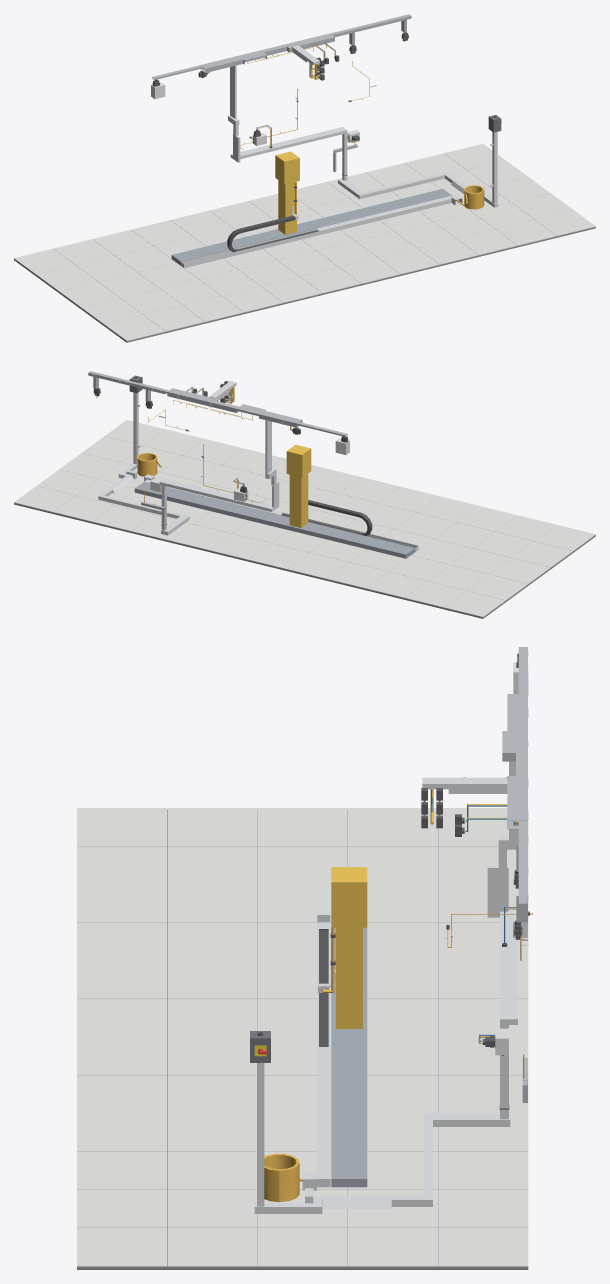
File: modul_R.glb
The picture shows the model from 3 angles, top to bottom: view 1: azimuth 30°, elevation 25°; view 2: azimuth 150°, elevation 25°; view 3: azimuth 270°, elevation 25°; orthographic projection. The views are drawn at different scales.
Visible parts, largest first — view 1: ZEMIN_DOSEME__zemin_karo, ROBOT_RAY, ELK_ANA_HAT__paslanmaz, ELK_ANA_HAT__kanal, ROBOT_ZINCIR_OLUGU__paslanmaz, ZEMIN_DOSEME__zemin_sap, ELK_ZEMIN_KANALI__paslanmaz, ROBOT_1, ROBOT_1_KOL, ROBOT_ENERJI_ZINCIRI__zincir, ROBOT_KABLOSU__kablo, ELK_ISTASYON__pano; view 2: ZEMIN_DOSEME__zemin_karo, ROBOT_RAY, ELK_ANA_HAT__paslanmaz, ELK_ANA_HAT__kanal, ELK_ZEMIN_KANALI__paslanmaz, ZEMIN_DOSEME__zemin_sap, ROBOT_1, ROBOT_1_KOL, ROBOT_ENERJI_ZINCIRI__zincir, ROBOT_ZINCIR_OLUGU__paslanmaz, ELK_ISTASYON__pano, ROBOT_KABLOSU__kablo; view 3: ZEMIN_DOSEME__zemin_karo, ROBOT_RAY, ELK_ANA_HAT__paslanmaz, ELK_ANA_HAT__kanal, ELK_ZEMIN_KANALI__paslanmaz, ROBOT_1, ROBOT_ZINCIR_OLUGU__paslanmaz, ZEMIN_DOSEME__zemin_sap, ROBOT_1_KOL, ROBOT_KABLOSU__kablo, ROBOT_ENERJI_ZINCIRI__zincir, ELK_ISTASYON__rakor.
Boxes of the visible parts, <box> form: ZEMIN_DOSEME__zemin_karo: <box>14,144,595,341</box>; ROBOT_RAY: <box>171,188,451,265</box>; ELK_ANA_HAT__paslanmaz: <box>228,45,497,203</box>; ELK_ANA_HAT__kanal: <box>152,14,411,171</box>; ROBOT_ZINCIR_OLUGU__paslanmaz: <box>180,195,453,268</box>; ZEMIN_DOSEME__zemin_sap: <box>14,227,595,342</box>; ELK_ZEMIN_KANALI__paslanmaz: <box>338,172,498,207</box>; ROBOT_1: <box>278,180,296,234</box>; ROBOT_1_KOL: <box>275,151,299,184</box>; ROBOT_ENERJI_ZINCIRI__zincir: <box>227,215,318,252</box>; ROBOT_KABLOSU__kablo: <box>295,182,484,217</box>; ELK_ISTASYON__pano: <box>151,82,359,145</box>; ZEMIN_DOSEME__zemin_karo: <box>14,420,595,617</box>; ROBOT_RAY: <box>134,482,414,558</box>; ELK_ANA_HAT__paslanmaz: <box>92,374,342,524</box>; ELK_ANA_HAT__kanal: <box>88,371,347,529</box>; ELK_ZEMIN_KANALI__paslanmaz: <box>98,463,189,535</box>; ZEMIN_DOSEME__zemin_sap: <box>14,503,595,618</box>; ROBOT_1: <box>289,473,308,527</box>; ROBOT_1_KOL: <box>286,444,311,477</box>; ROBOT_ENERJI_ZINCIRI__zincir: <box>281,500,372,535</box>; ROBOT_ZINCIR_OLUGU__paslanmaz: <box>144,479,418,551</box>; ELK_ISTASYON__pano: <box>150,438,349,501</box>; ROBOT_KABLOSU__kablo: <box>137,453,161,476</box>; ZEMIN_DOSEME__zemin_karo: <box>77,808,528,1267</box>; ROBOT_RAY: <box>331,927,367,1187</box>; ELK_ANA_HAT__paslanmaz: <box>257,650,528,1206</box>; ELK_ANA_HAT__kanal: <box>502,647,527,1102</box>; ELK_ZEMIN_KANALI__paslanmaz: <box>254,1109,510,1213</box>; ROBOT_1: <box>336,927,362,1028</box>; ROBOT_ZINCIR_OLUGU__paslanmaz: <box>317,914,330,1187</box>; ZEMIN_DOSEME__zemin_sap: <box>77,809,528,1269</box>; ROBOT_1_KOL: <box>331,867,367,927</box>; ROBOT_KABLOSU__kablo: <box>264,927,334,1202</box>; ROBOT_ENERJI_ZINCIRI__zincir: <box>319,929,328,1046</box>; ELK_ISTASYON__rakor: <box>421,653,529,1055</box>.
Size of the model in its own units: 7.2 by 2.21 by 3.03.
